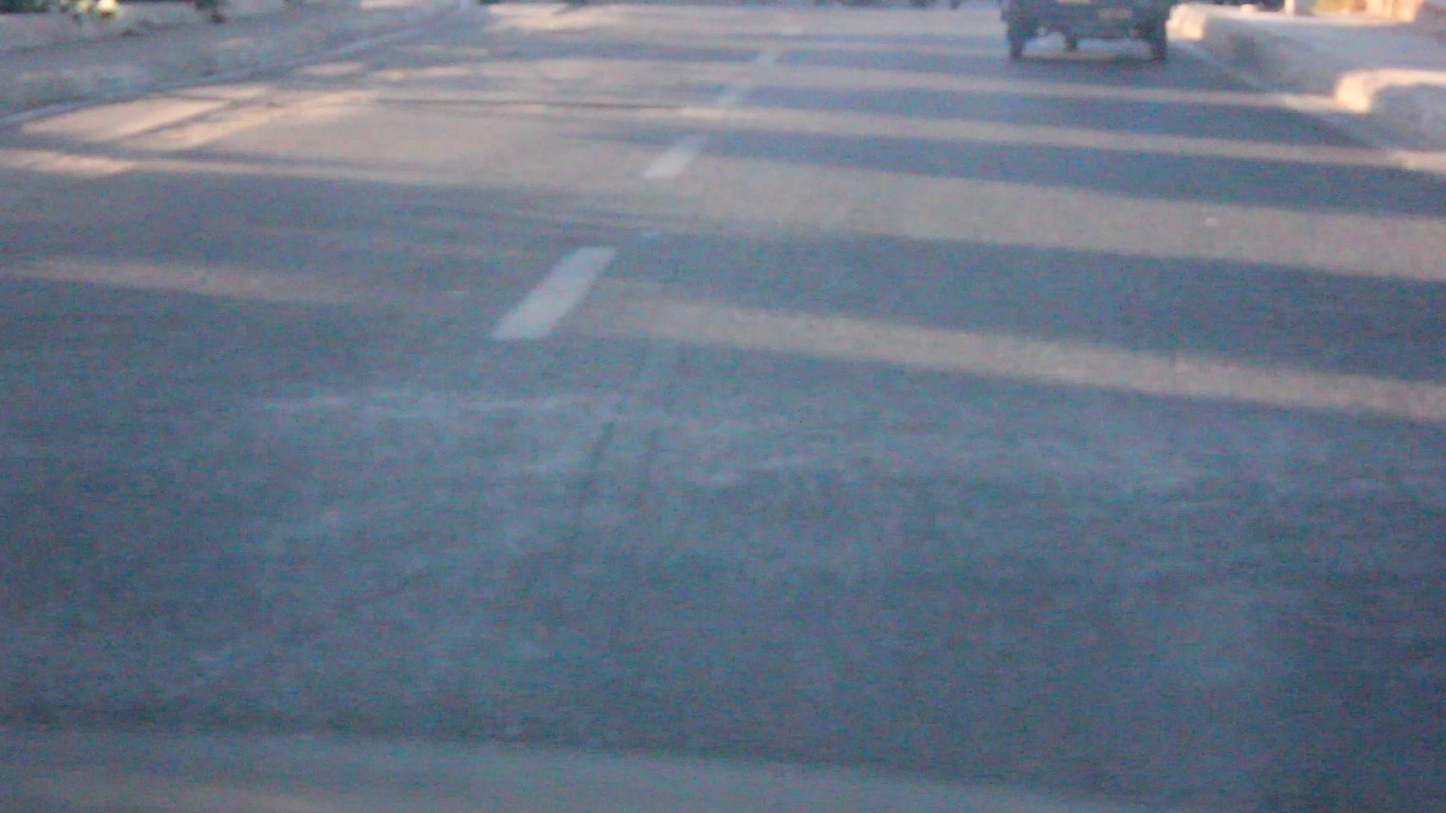Bump: (8, 384, 1446, 760)
